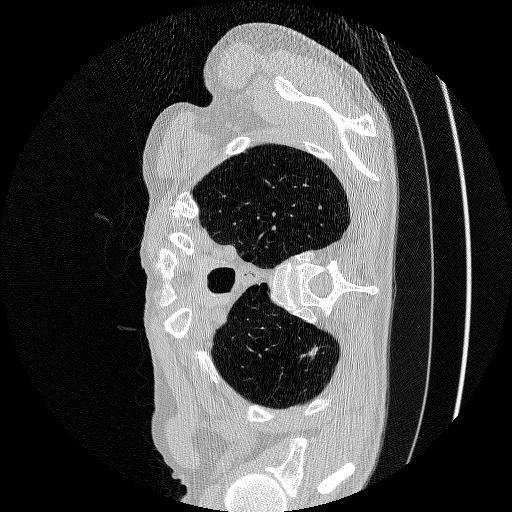nodule: (306, 347, 320, 361)
